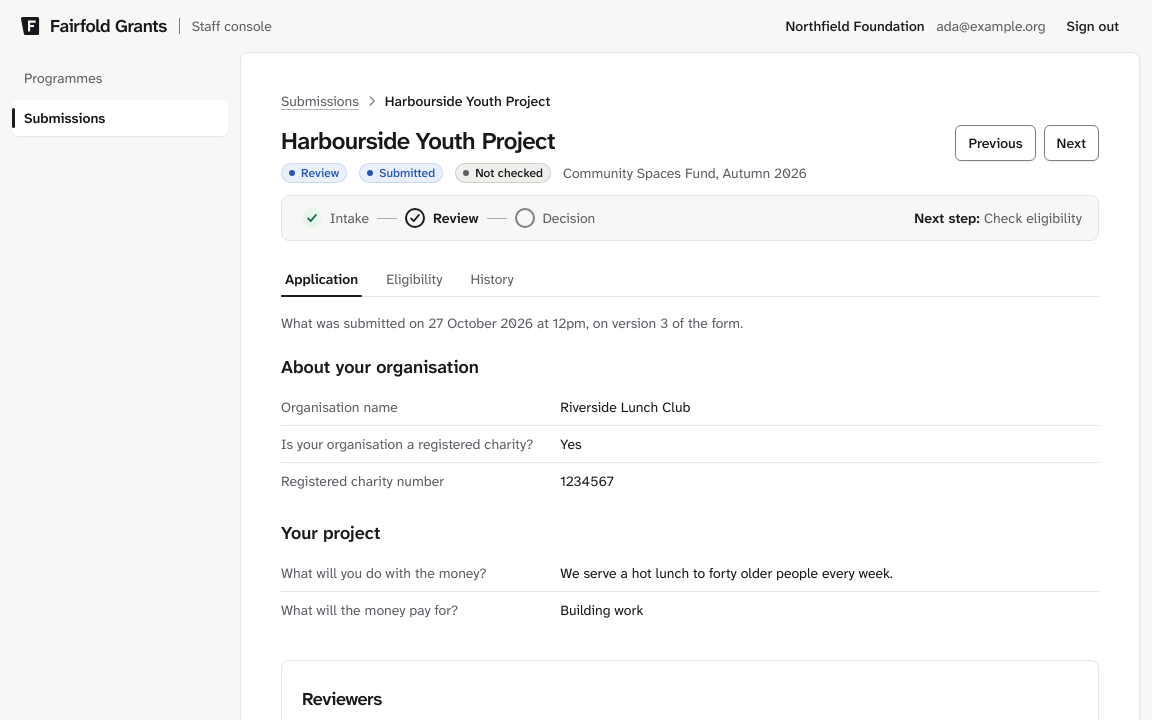
Test case: a submission › says so when no eligibility check is on record
This screenshot has width=1152, height=720.
Expected: the panel named "Application" is shown, [281,297,1099,628]
Click the tab "Eligibility". click: click(414, 279)
box: [382,261,446,297]
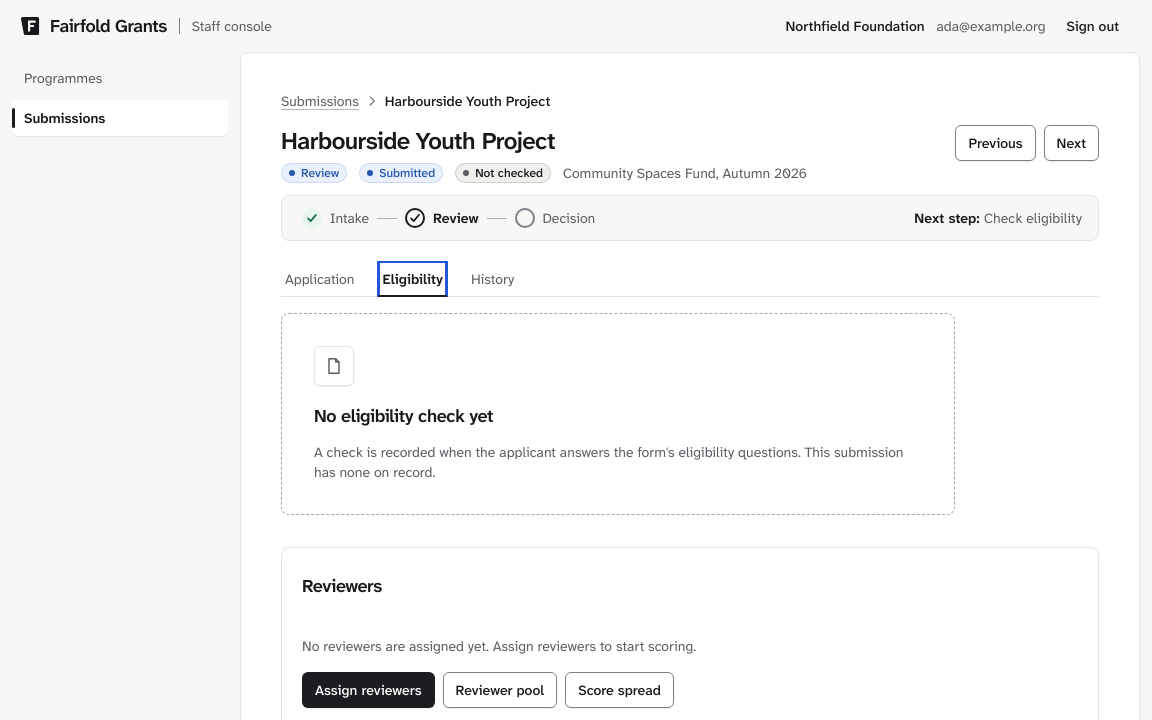
Expected: the heading "No eligibility check yet" is shown, [314,402,493,430]
